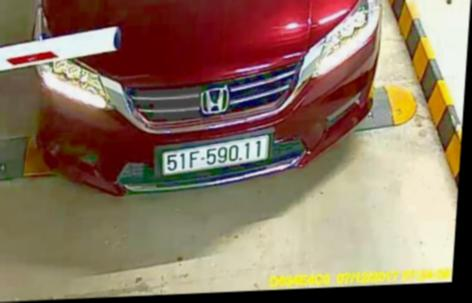License_Plate: (160, 136, 274, 175)
